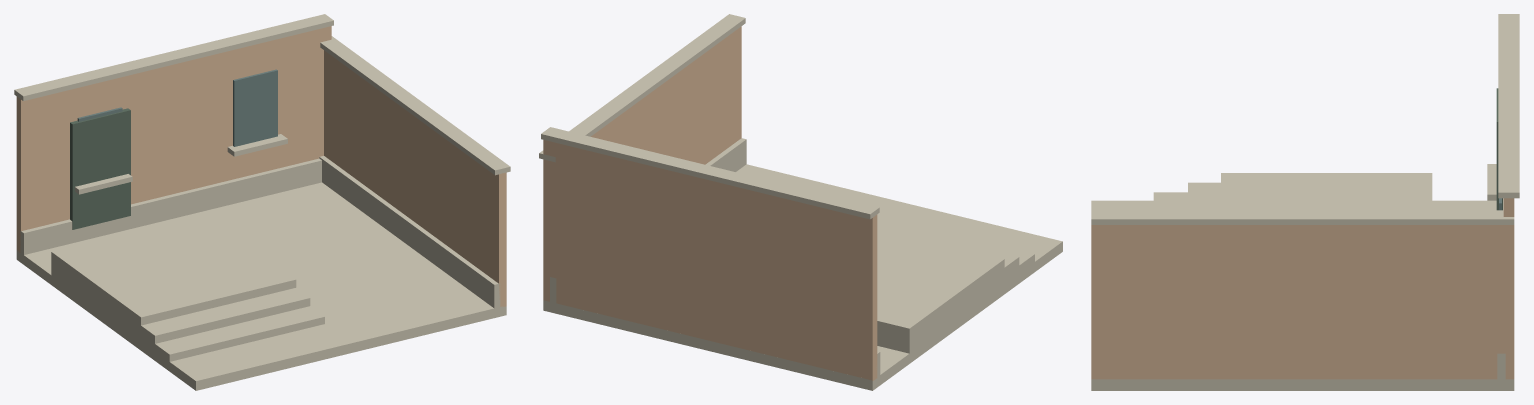
File: district-2-0-2.glb
3 views of the same model, side by side, from view 1: azimuth 30°, elevation 25°; view 2: azimuth 150°, elevation 25°; view 3: azimuth 270°, elevation 25° (orthographic). The views are drawn at different scales.
Parts seen in each view (by area): view 1: stone.020, plaster.018, metal.007, glass.008; view 2: plaster.018, stone.020; view 3: plaster.018, stone.020, metal.007.
Part boxes in pixels (bbox=[...]): stone.020: bbox=[14, 14, 510, 390]; plaster.018: bbox=[16, 26, 506, 306]; metal.007: bbox=[70, 108, 130, 229]; glass.008: bbox=[77, 69, 277, 146]; plaster.018: bbox=[543, 26, 877, 380]; stone.020: bbox=[539, 14, 1062, 390]; plaster.018: bbox=[1091, 198, 1514, 379]; stone.020: bbox=[1091, 14, 1519, 390]; metal.007: bbox=[1496, 88, 1502, 210].
Bounding box in the file's own units: 8.1 × 4.14 × 8.1.
